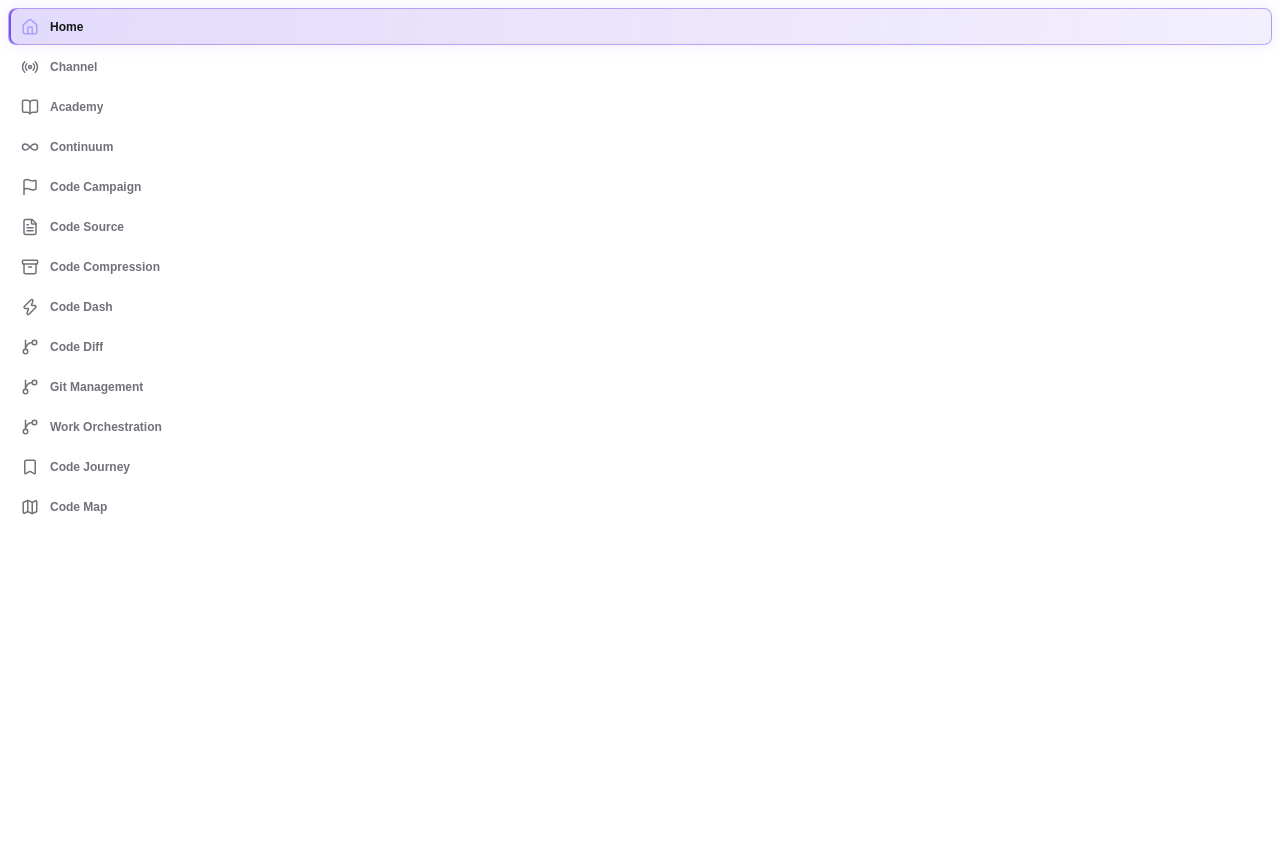
opens Channel through navigation immediately after Home and removes Settings
Expected: the heading "Code Awareness Channel" is not shown
Click the button "Channel": click(74, 66) [8,48,1272,85]
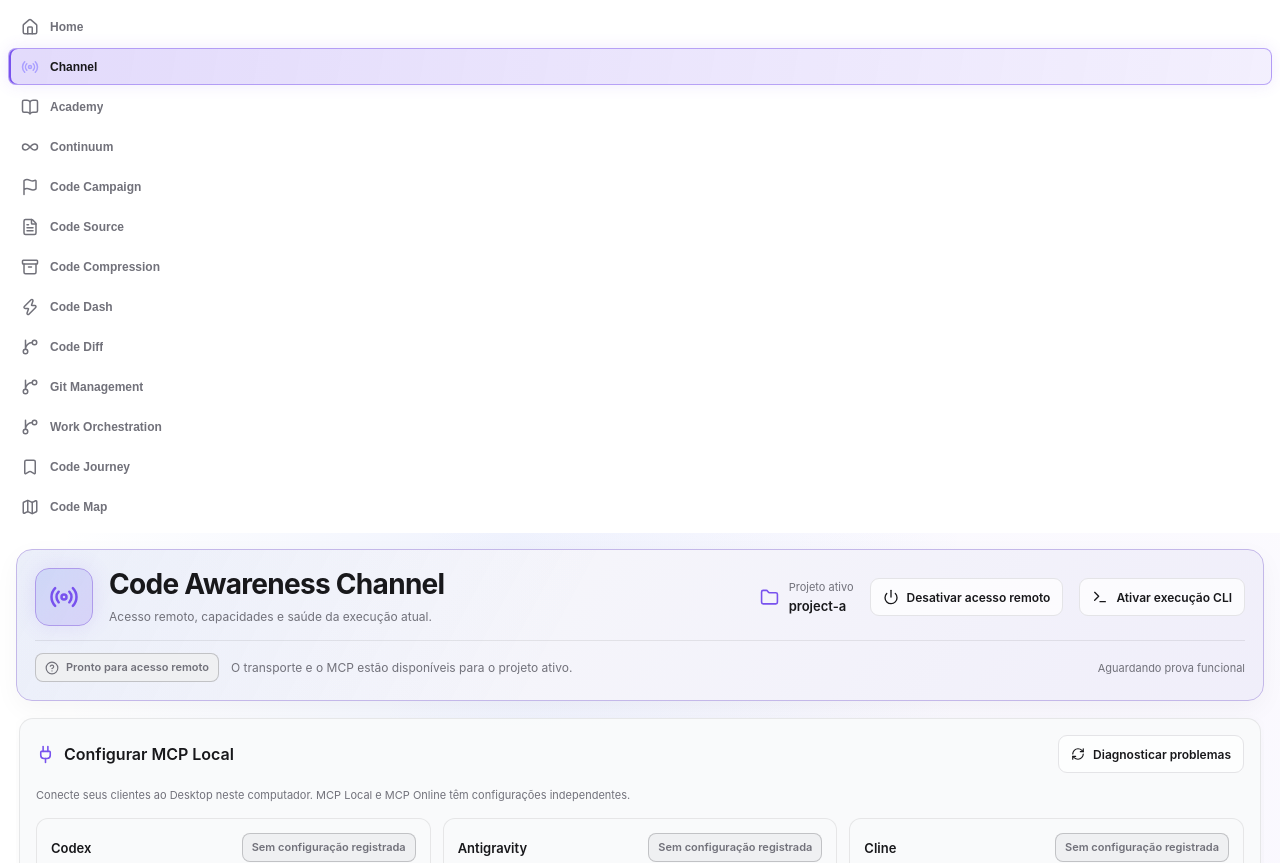
Expected: the heading "Code Awareness Channel" is shown, [109,568,444,602]
